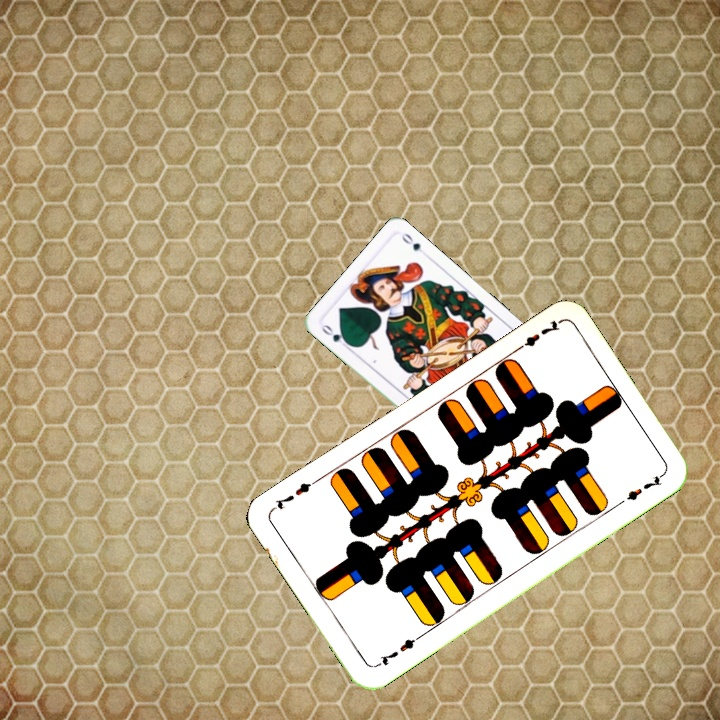E7: (510, 315, 563, 355), (371, 631, 424, 670)
GO: (317, 320, 353, 352)
